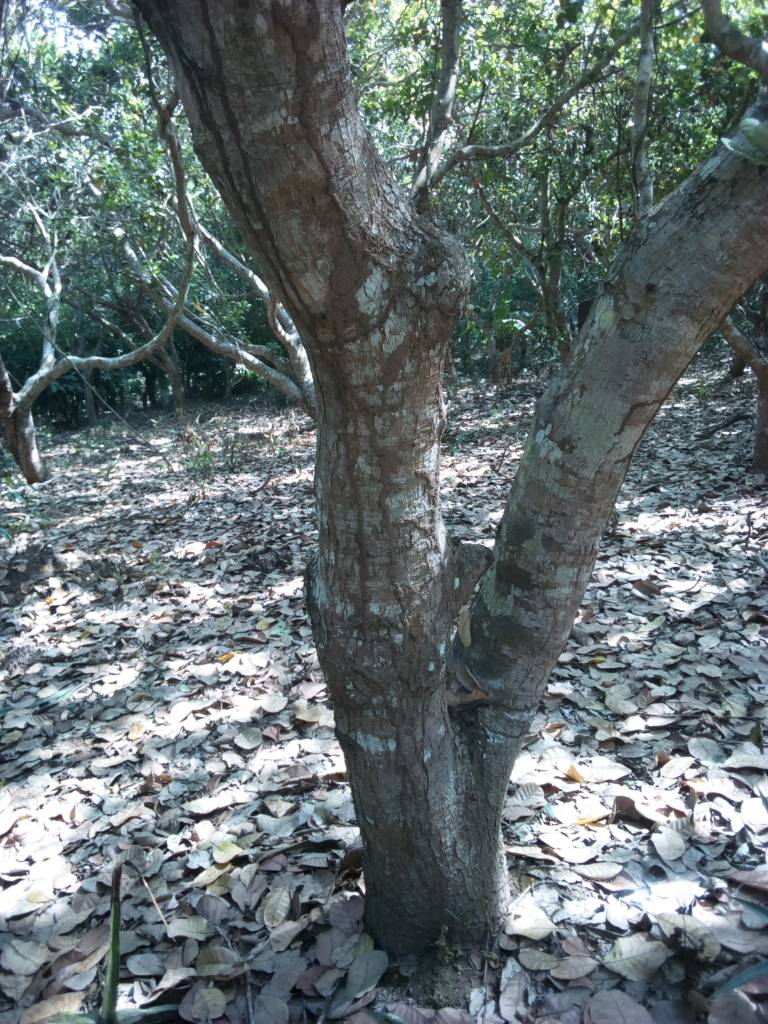Termites: (352, 414, 465, 892), (290, 7, 379, 238)
